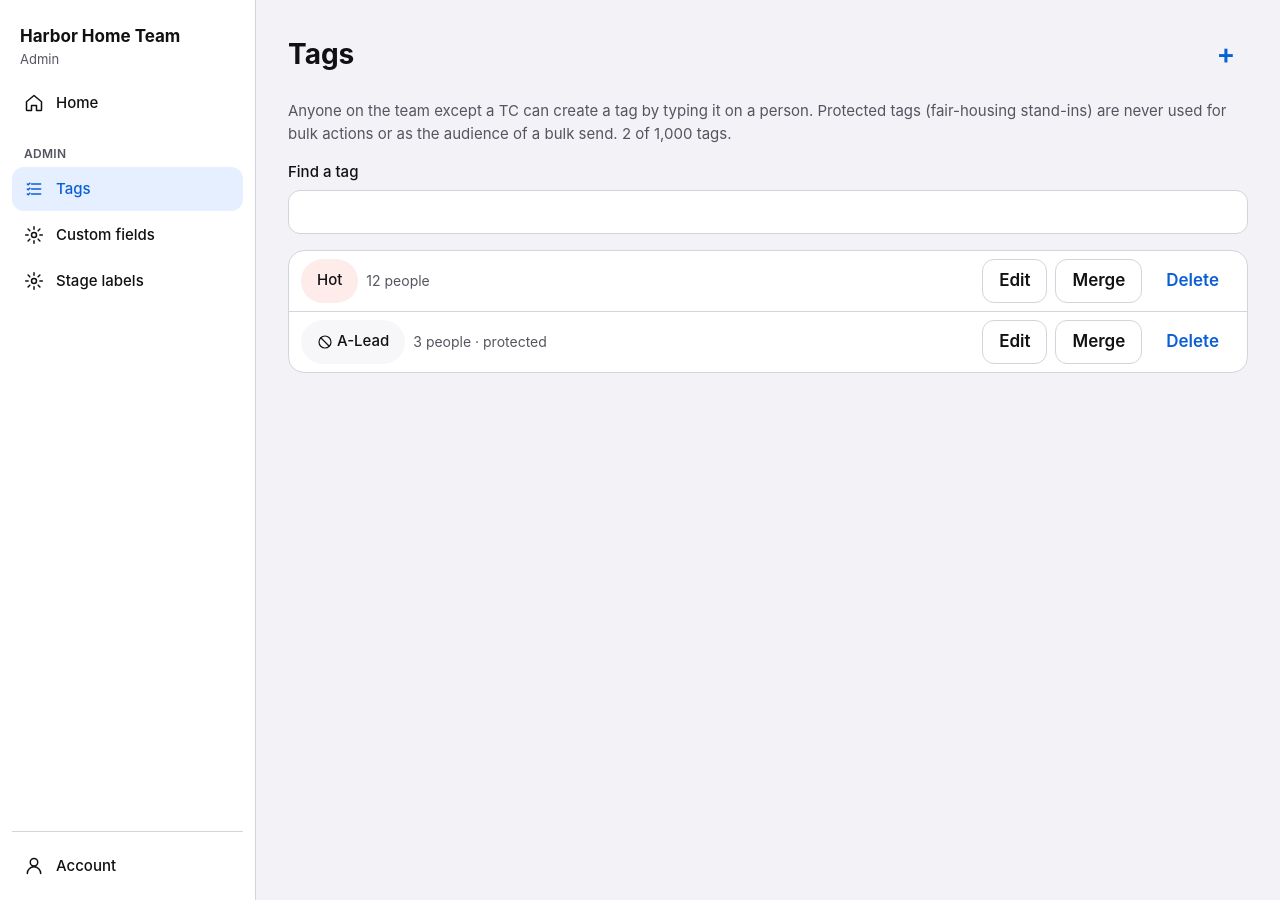
Test: Admin → Tags (R-PAR-9) › R-PAR-8: an Admin cannot lift a protection (the box is locked and says only the Owner can); the Owner can
This screenshot has width=1280, height=900.
Click the button with aria-label "Edit A-Lead": (1015, 342) 982,320 -> 1048,364
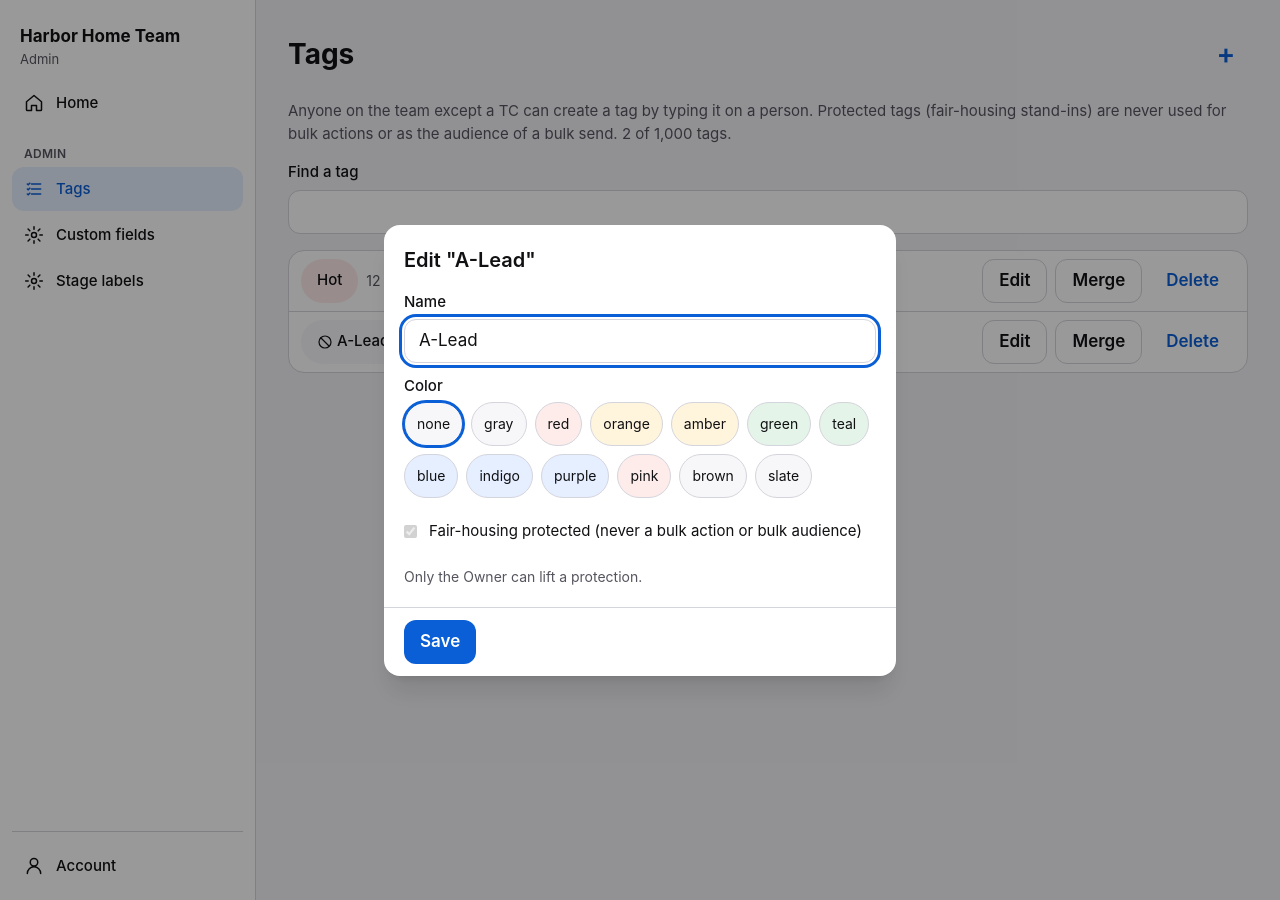
Result: the checkbox labelled "Fair-housing protected" is disabled at 404,525 -> 417,538
Result: the text "Only the Owner can lift a protection." is shown at 404,568 -> 642,584
